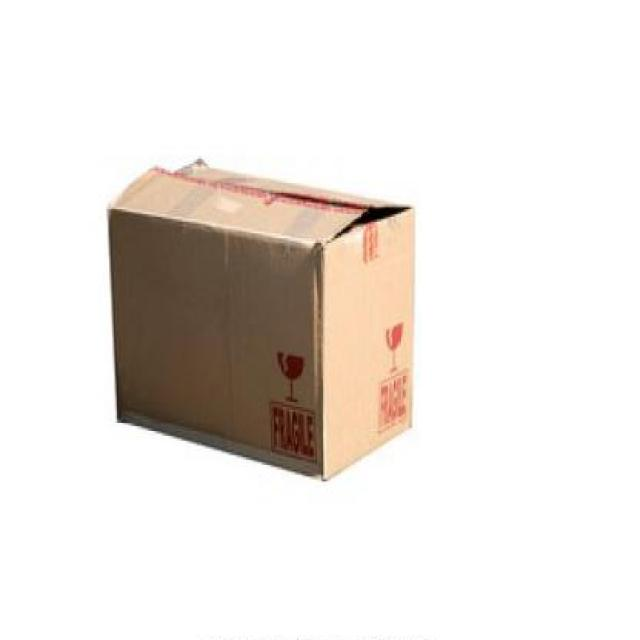box: (93, 141, 430, 494)
